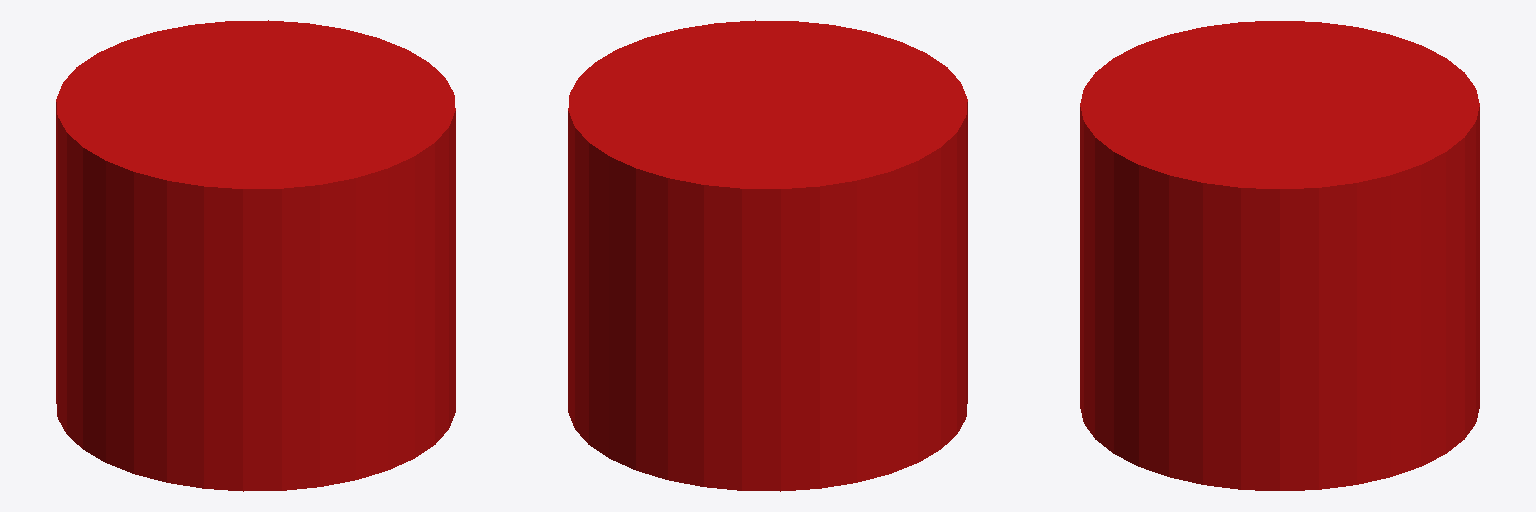
robot.urdf — simple_cylinder:
<robot name="simple_cylinder">
  <link name="cylinder_link">
    <gravity>false</gravity>
    <visual>
      <origin xyz = "0 0 0" rpy="0 0 0"/>
      <geometry>
        <cylinder radius="3" length="5"/>
      </geometry>
      <material name="red">
        <color rgba="0.8 0.1 0.1 1.0"/>
      </material>
    </visual>
    <collision>
      <origin xyz = "0 0 0" rpy = "0 0 0"/>
      <geometry>
        <cylinder radius="3" length="2"/>
      </geometry>
    </collision>
    <inertial>
      <mass value="1.0"/>
      <origin xyz="0 0 0" rpy="0 0 0"/>
      <inertia
        ixx="0.05" ixy="0.0" ixz="0.0"
        iyy="0.05" iyz="0.0"
        izz="0.02"/>
    </inertial>
  </link>
  <gazebo>
    <static>true</static>
  </gazebo>
</robot>

<!--robot name="tiny_cylinder">
  <link name="cylinder_link">
    <visual>
      <origin xyz="0 0 0" rpy="0 0 0"/>
      <geometry>
        <cylinder radius="0.2" length="0.5"/>
      </geometry>
      <material name="red">
        <color rgba="0 1 0 1"/>
      </material>
    </visual>
    <collision>
      <origin xyz="0 0 0" rpy="0 0 0"/>
      <geometry>
        <cylinder radius="0.2" length="0.5"/>
      </geometry>
    </collision>
    <inertial>
      <origin xyz="0 0 0" rpy="0 0 0"/>
      <mass value="0.5"/>
      <inertia ixx="0.01" ixy="0" ixz="0" iyy="0.01" iyz="0" izz="0.01"/>
    </inertial>
  </link>
  <gazebo>
    <static>true</static>
  </gazebo>
</robot-->

--- Render facts (derived) ---
3 views of the same robot in one strip: view 1: azimuth 30°, elevation 25°; view 2: azimuth 150°, elevation 25°; view 3: azimuth 270°, elevation 25° (orthographic).
Robot: simple_cylinder — 1 links, 0 joints (none); root link cylinder_link; default pose: every joint at zero.
Visible links, largest first — view 1: cylinder_link; view 2: cylinder_link; view 3: cylinder_link.
Boxes of the visible links, box(x1,y1,x2,y2) form: cylinder_link: box(56, 20, 455, 491); cylinder_link: box(568, 20, 967, 491); cylinder_link: box(1080, 21, 1479, 490).
Size in the robot's own frame: 6 by 6 by 5 metres.
Geometry: primitives only (box / cylinder / sphere), no mesh files.